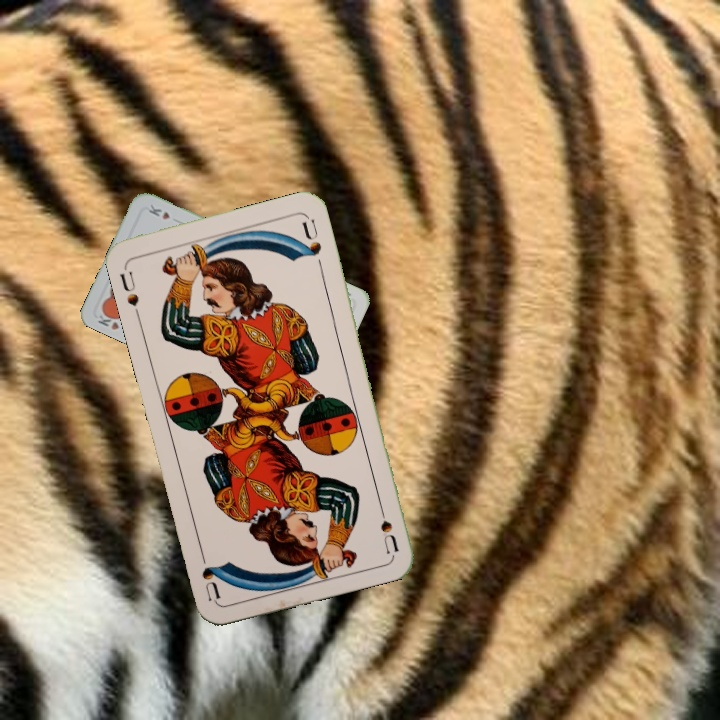HK: (94, 306, 123, 333)
SU: (374, 496, 401, 556), (115, 267, 142, 309)
